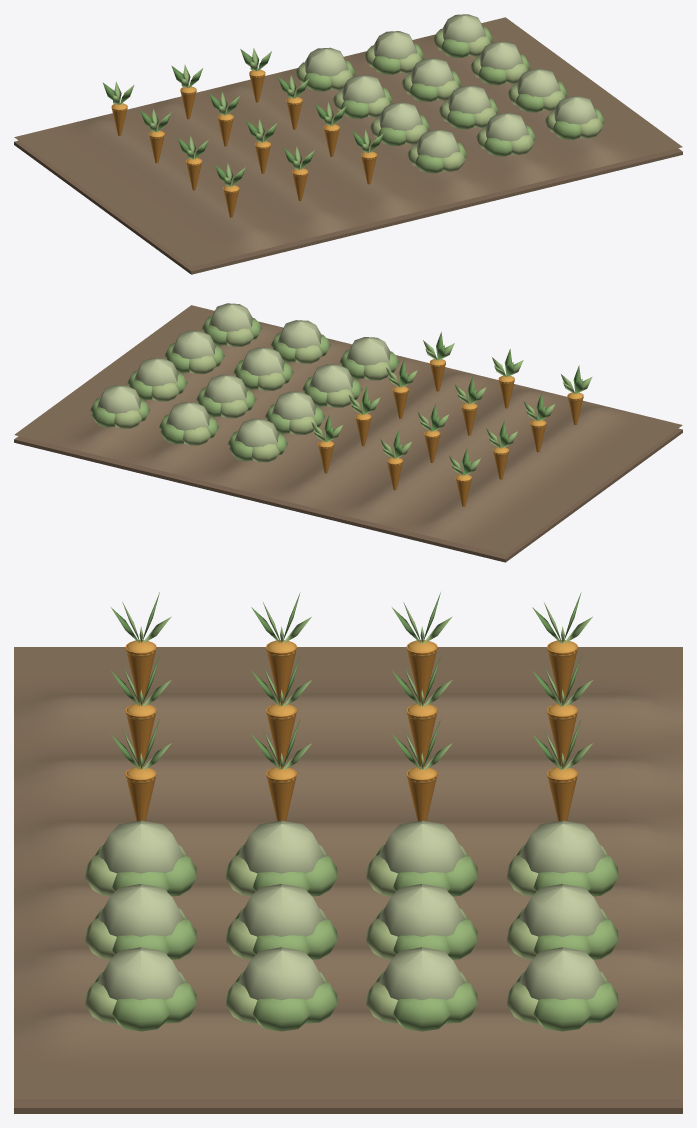
The model's file is field_stage3.glb.
The picture shows the model from 3 angles, top to bottom: view 1: azimuth 30°, elevation 25°; view 2: azimuth 150°, elevation 25°; view 3: azimuth 270°, elevation 25°; orthographic projection. The views are drawn at different scales.
Size of the model in its own units: 8 by 1.05 by 5.
